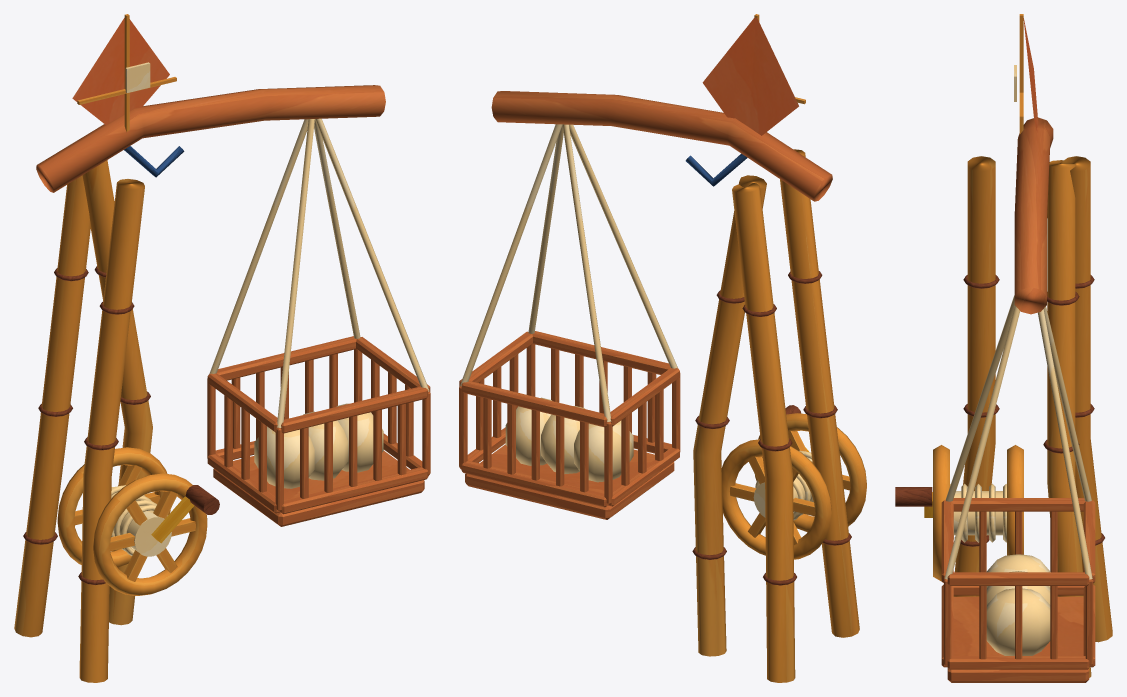
File: 03_宫崎骏参考_水粉.glb
The picture shows the model from 3 angles, left to right: view 1: azimuth 30°, elevation 25°; view 2: azimuth 150°, elevation 25°; view 3: azimuth 270°, elevation 25°; orthographic projection. The views are drawn at different scales.
Visible parts, largest first — view 1: kite_dock; view 2: kite_dock; view 3: kite_dock.
Part boxes in pixels (x1,y1,x2,y2): kite_dock: [14, 14, 430, 682]; kite_dock: [459, 14, 866, 682]; kite_dock: [895, 14, 1112, 682].
Size of the model in its own units: 1.35 by 2.34 by 0.7054.
Materials: 2 (2 with a texture image).
